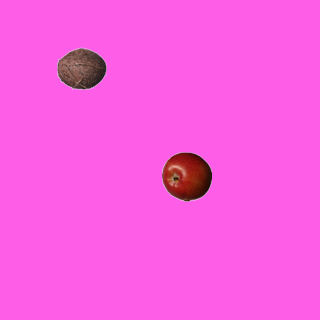Apple Braeburn: (161, 151, 211, 201)
Cocos: (56, 43, 106, 93)
